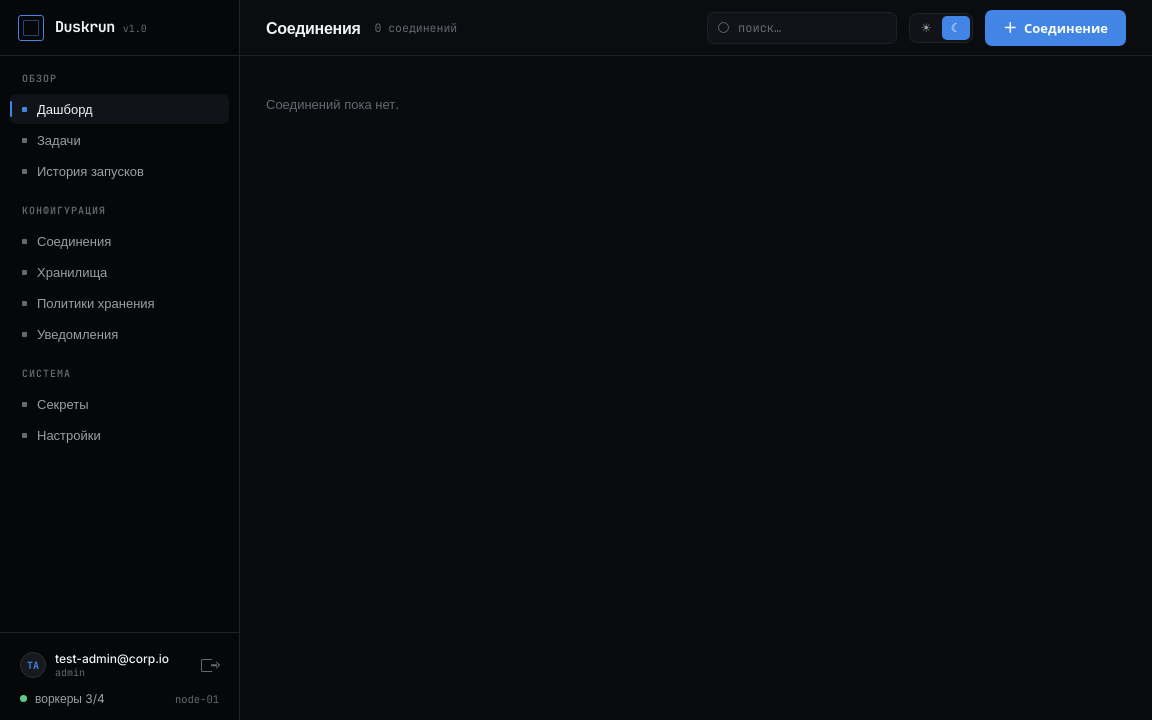
TestConnectionCheckRedisSkipsStages: no DB user is demanded and untried stages read as skipped
Click the button "＋ Соединение" at (1056, 28), box [985, 10, 1126, 46]
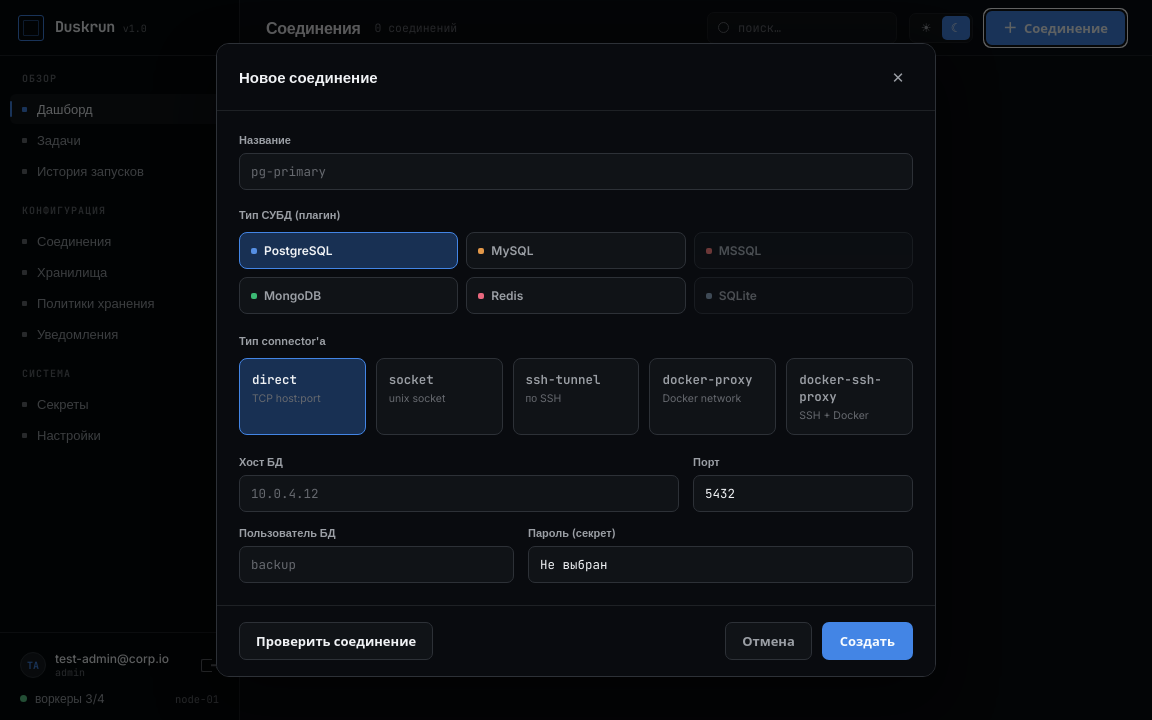
Click the text "Redis" at (507, 296), box [491, 288, 523, 303]
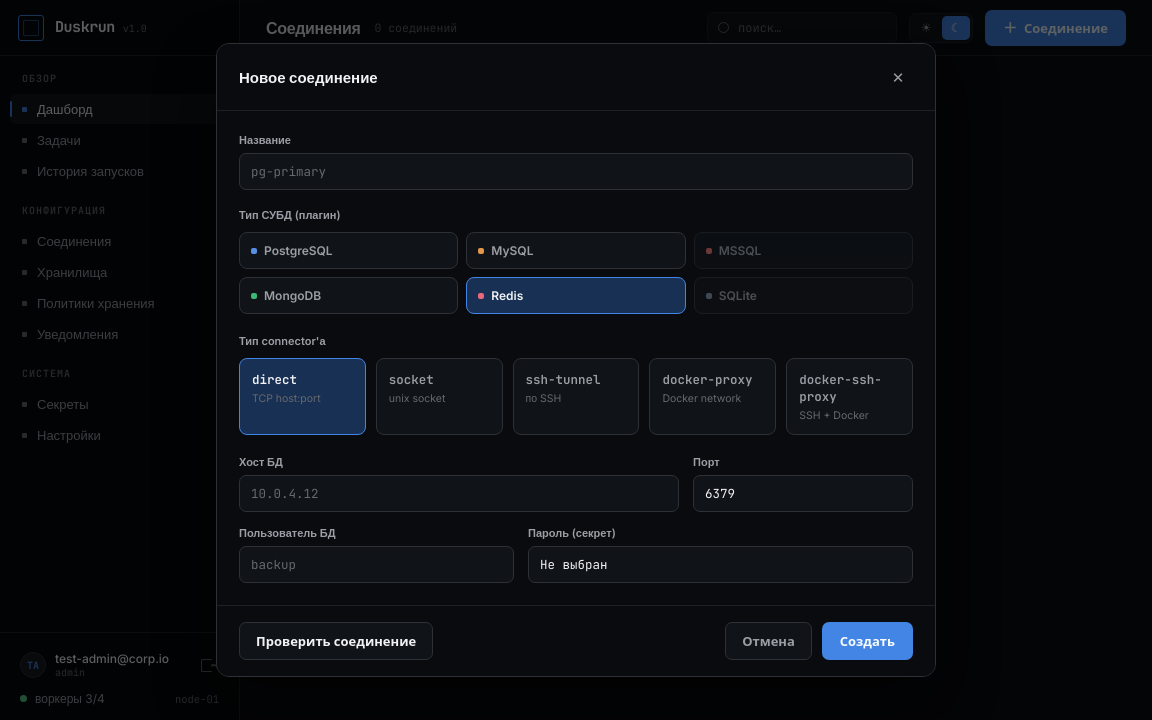
Type "cache" into the field labelled "Название" at (576, 172), box [239, 153, 913, 190]
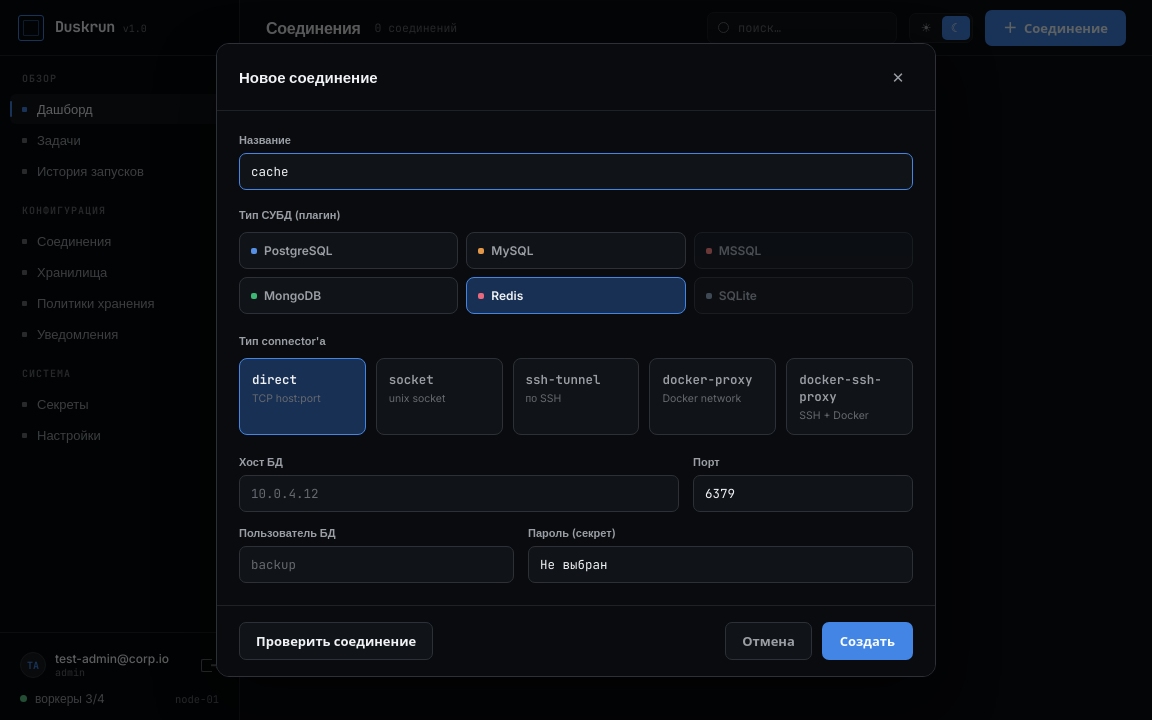
Type "10.0.0.9" into the field labelled "Хост БД" at (459, 494), box [239, 475, 679, 512]
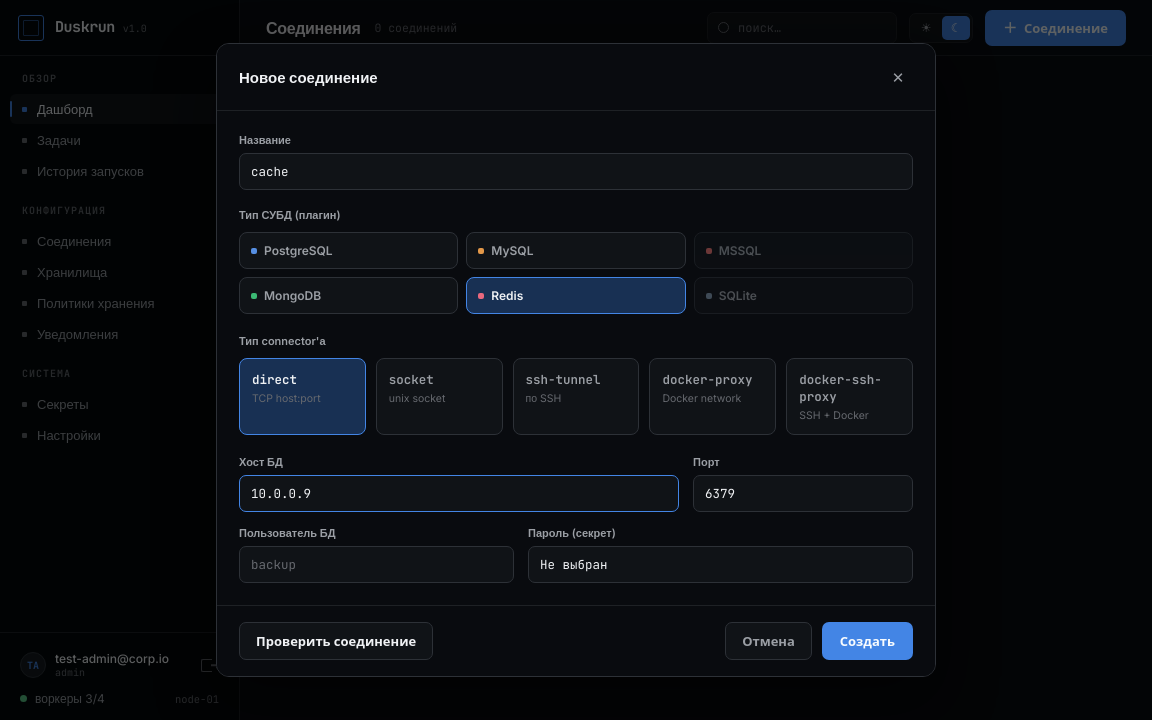
Click the button "Проверить соединение" at (336, 641), box [239, 622, 433, 660]
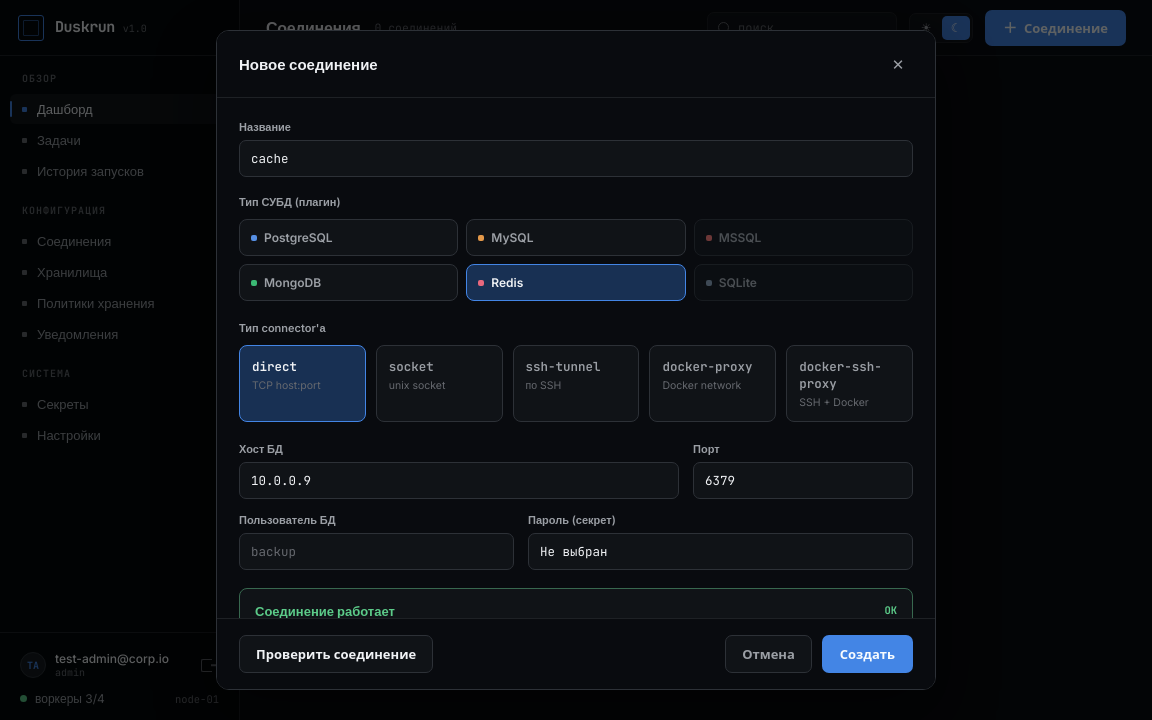
Expected: the text "Соединение работает" is shown, [255, 603, 395, 619]
